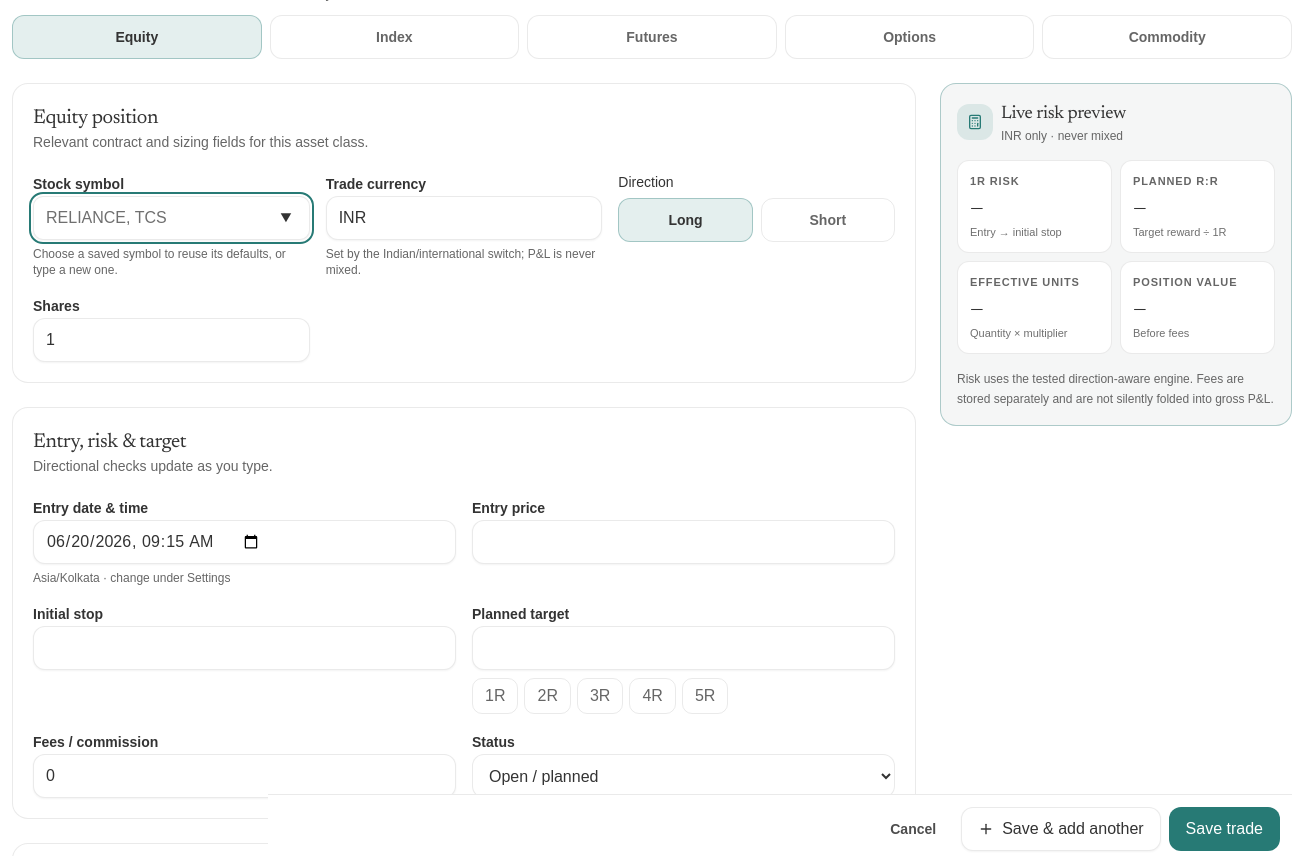
it: trade entry libraries › backfills saved instrument defaults and exposes linked setup controls
The width and height of the screenshot is (1292, 856).
Type "nifty" into the field labelled "Stock symbol".
click(171, 218); type("nifty")  # box [33, 196, 310, 240]
(page scrolled)
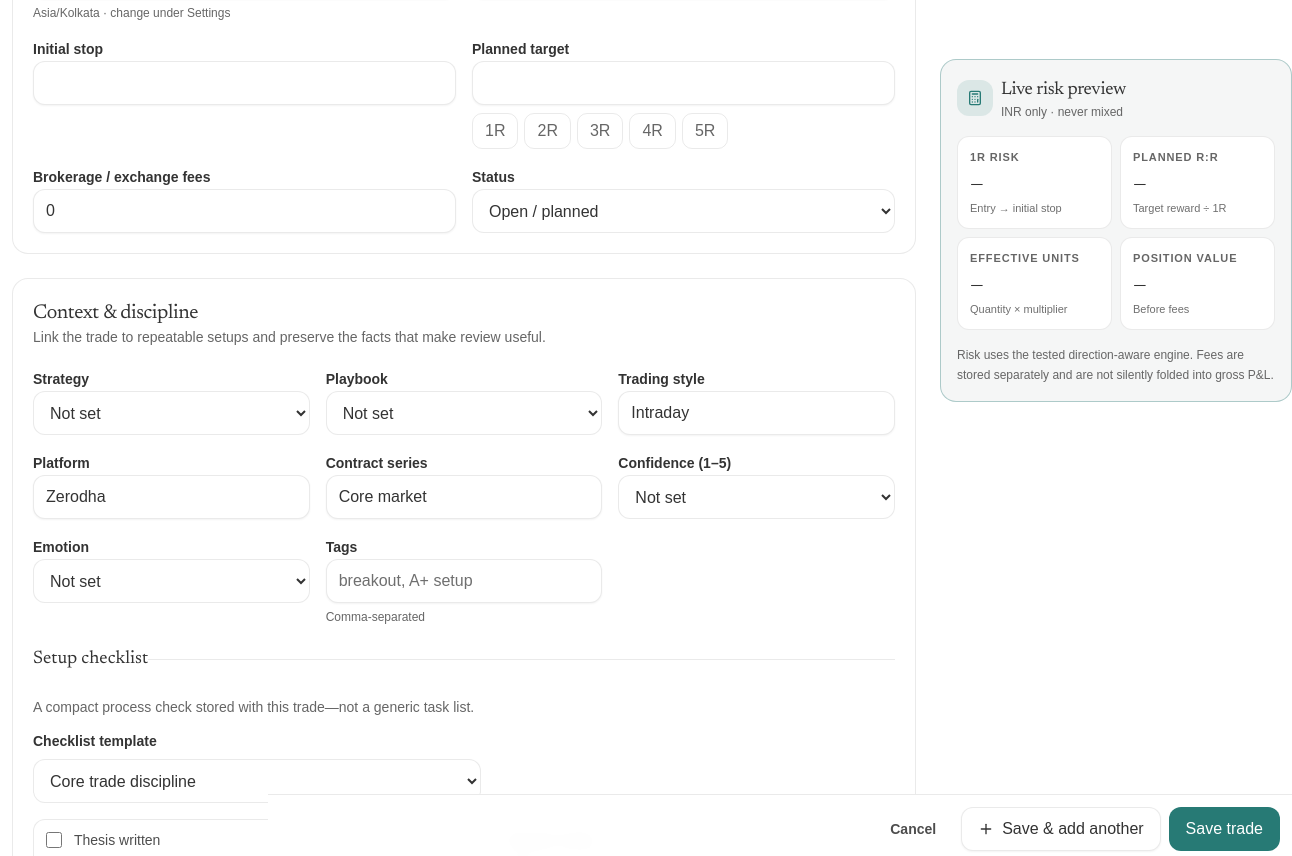
expect the dropdown labelled "Strategy" shows "Not set": met, box [33, 391, 310, 435]
expect the field labelled "Trading style" holds "Intraday": met, box [618, 391, 895, 435]
expect the field labelled "Platform" holds "Zerodha": met, box [33, 475, 310, 519]
